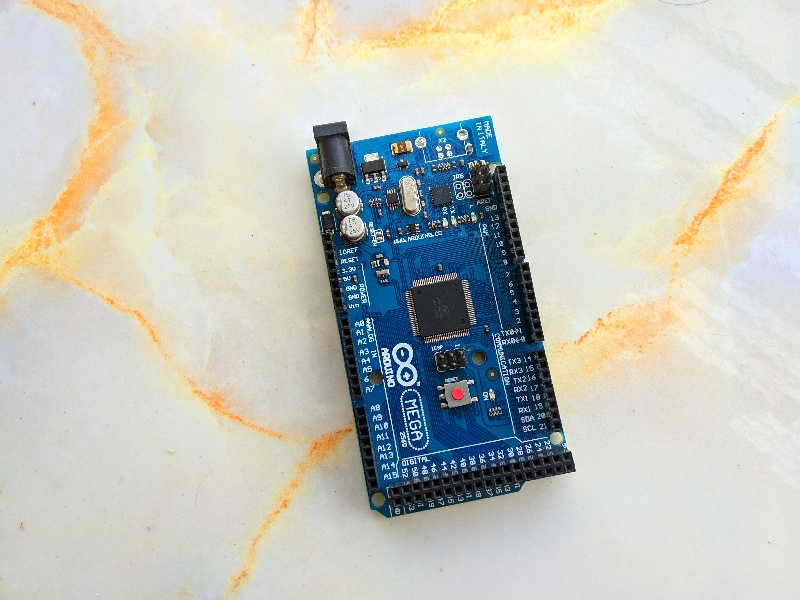Arduino Mega 2560: (295, 105, 588, 529)
